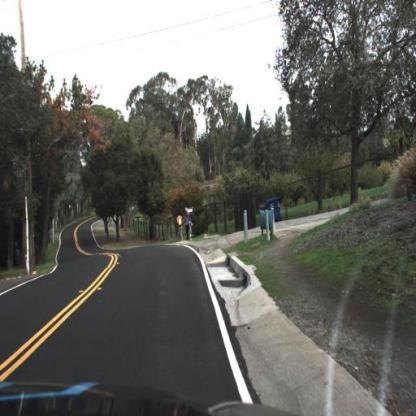pedestrian: (172, 208, 185, 243), (183, 208, 194, 243), (177, 210, 187, 241), (184, 211, 194, 240)
